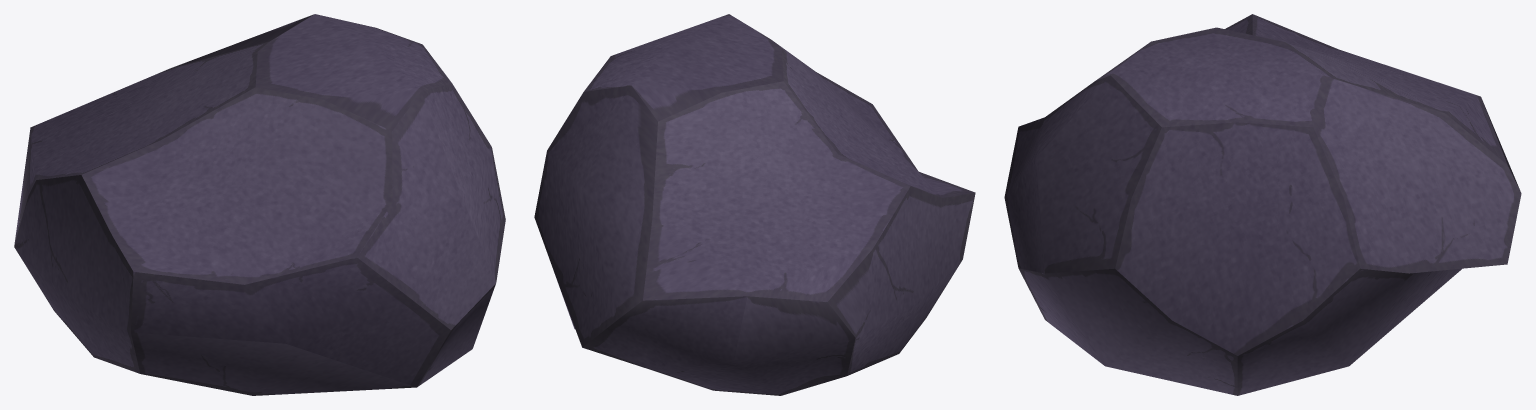
The model's file is rockfinalrender.fbx.
3 renders of one model, left to right at view 1: azimuth 30°, elevation 25°; view 2: azimuth 150°, elevation 25°; view 3: azimuth 270°, elevation 25°, orthographic. The views are drawn at different scales.
Parts seen in each view (by area): view 1: pPlatonic1; view 2: pPlatonic1; view 3: pPlatonic1.
Part boxes in pixels (<box>): pPlatonic1: <box>14,14,505,395</box>; pPlatonic1: <box>534,14,975,395</box>; pPlatonic1: <box>1004,14,1521,395</box>.
Bounding box in the file's own units: 2.14 × 1.58 × 2.44.
Materials: 1 (1 with a texture image).
